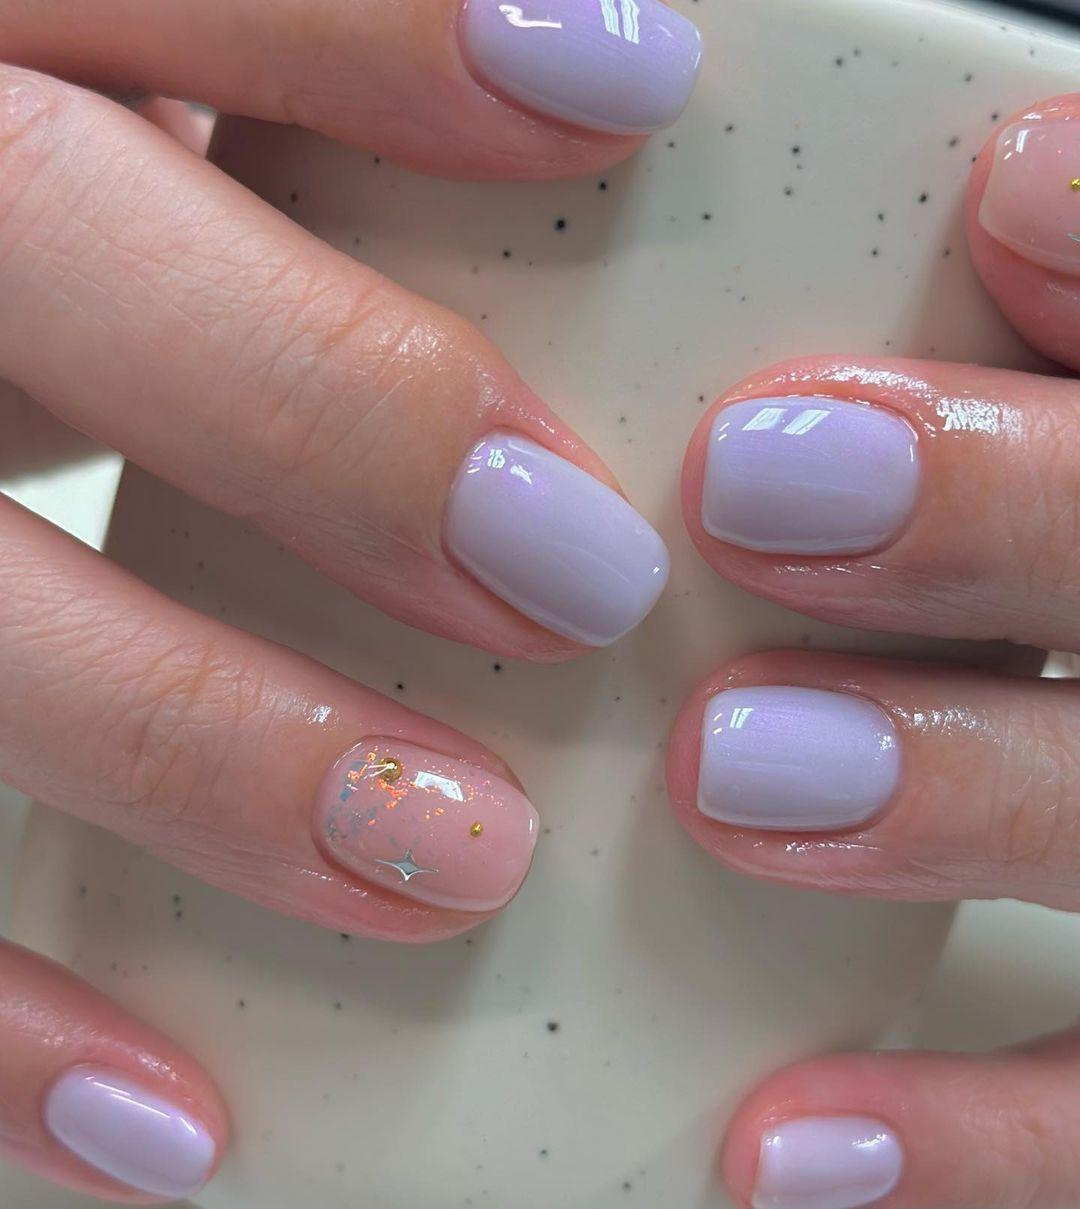nail: (678, 351, 1077, 653), (0, 935, 231, 1204), (439, 424, 670, 649), (309, 732, 540, 913), (699, 391, 922, 558), (453, 0, 704, 137), (962, 89, 1078, 370), (694, 681, 903, 834), (748, 1109, 905, 1207)
